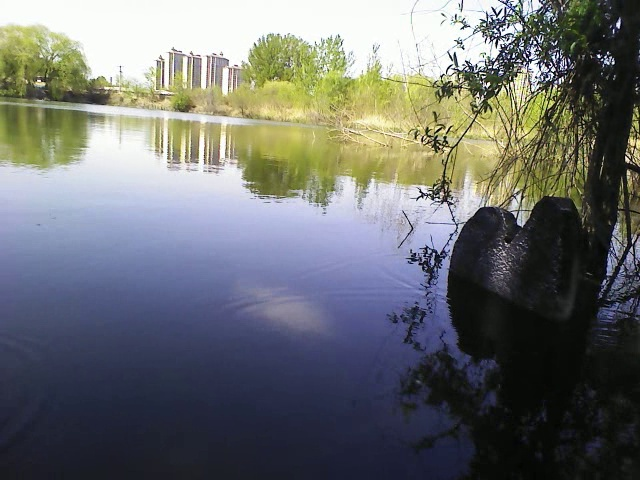rock: (450, 193, 585, 318)
